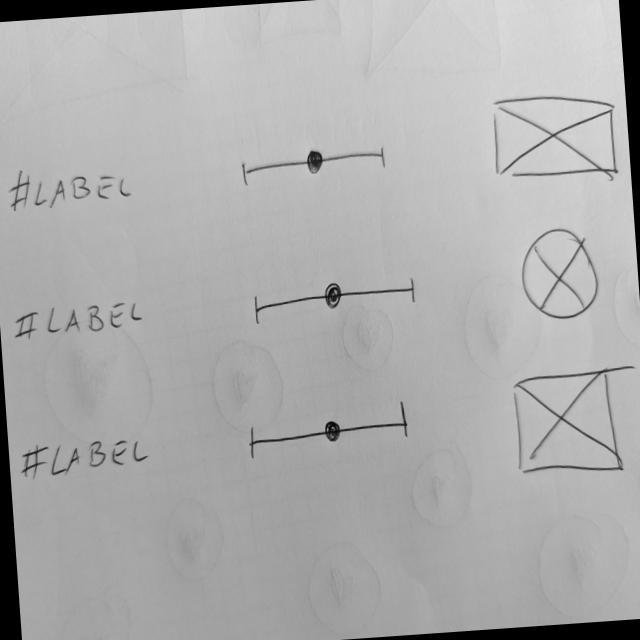image: (506, 362, 628, 484), (488, 87, 620, 186), (516, 225, 602, 322)
label: (2, 158, 141, 220), (12, 429, 153, 486), (11, 296, 151, 346)
slider: (242, 396, 416, 461), (246, 270, 422, 330), (236, 138, 392, 188)
